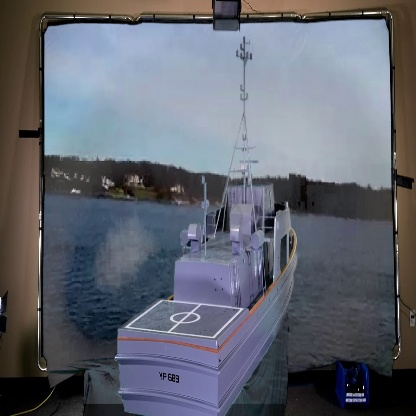YP689: (114, 34, 299, 416)
